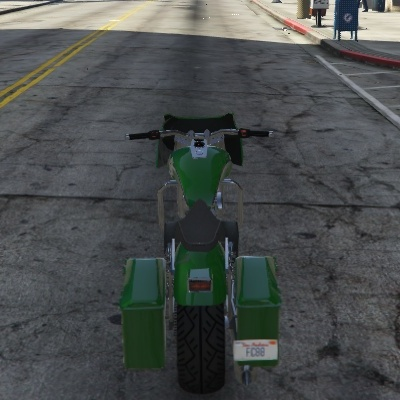off: (181, 263, 220, 300)
